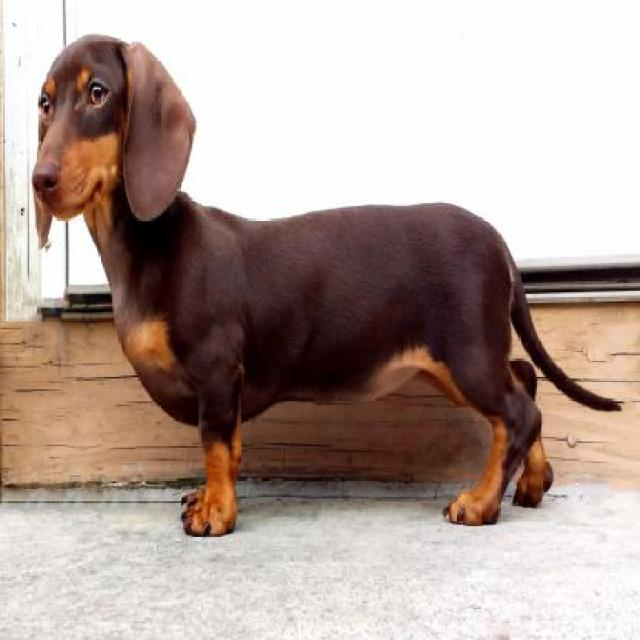Dog: (31, 34, 624, 543)
